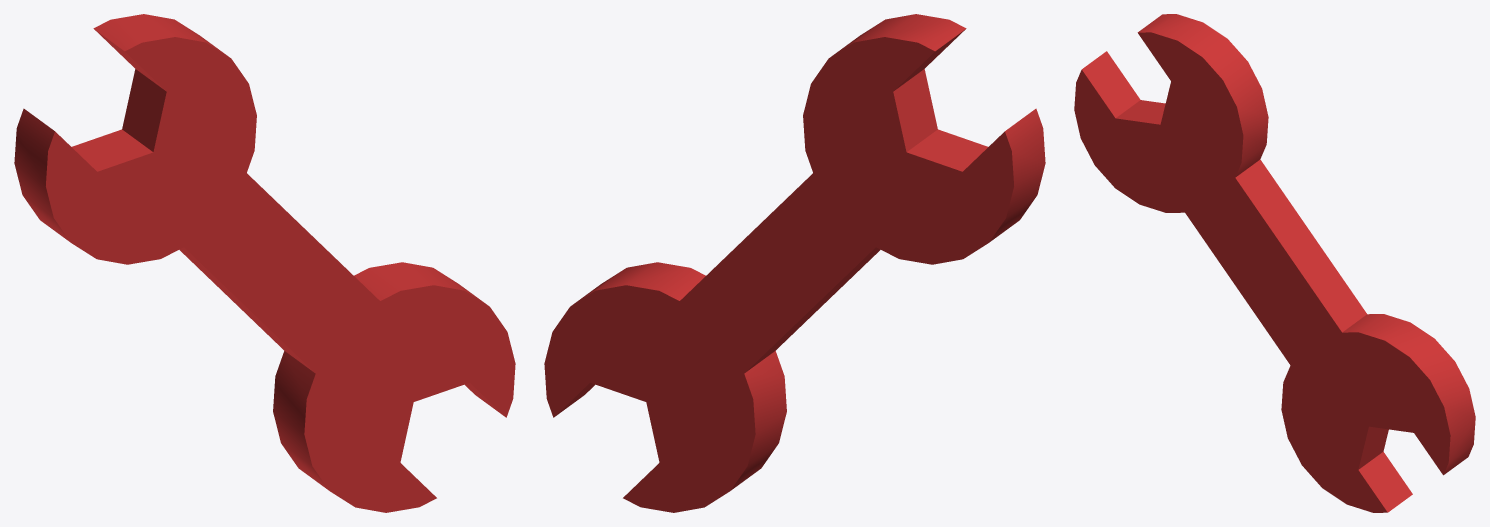
Rendered from wrenched_ankle_body.obj.
The picture shows the model from 3 angles, left to right: view 1: azimuth 30°, elevation 25°; view 2: azimuth 150°, elevation 25°; view 3: azimuth 330°, elevation 25°; orthographic projection. The views are drawn at different scales.
Visible parts, largest first — view 1: wrenched_ankle_visual; view 2: wrenched_ankle_visual; view 3: wrenched_ankle_visual.
Part boxes in pixels (x1,y1,x2,y2): wrenched_ankle_visual: [14, 14, 515, 512]; wrenched_ankle_visual: [544, 14, 1045, 512]; wrenched_ankle_visual: [1074, 14, 1475, 512].
Size of the model in its own units: 0.0173 by 0.0187 by 0.002.
